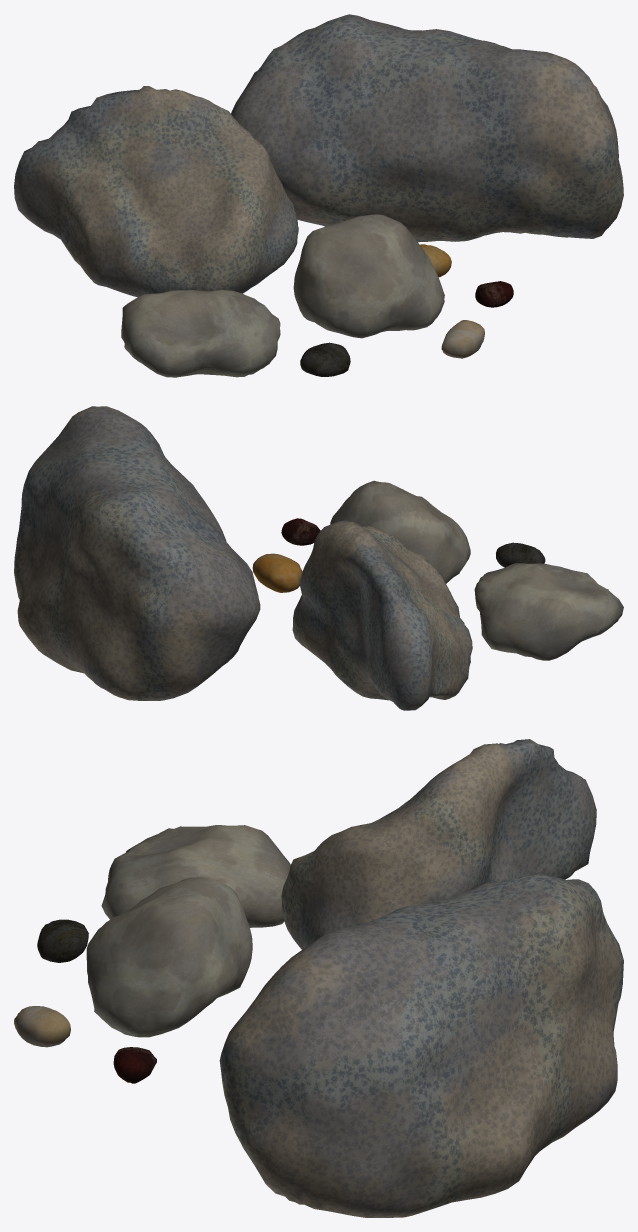
Rendered from river_rocks.glb.
3 views of the same model, one above another, from view 1: azimuth 30°, elevation 25°; view 2: azimuth 150°, elevation 25°; view 3: azimuth 270°, elevation 25° (orthographic). The views are drawn at different scales.
Visible parts, largest first — view 1: RiverRock_02, RiverRock_01, RiverRock_03, RiverRock_04, SmallRiverRock_04, SmallRiverRock_03, SmallRiverRock_02, SmallRiverRock_01; view 2: RiverRock_02, RiverRock_01, RiverRock_04, RiverRock_03, SmallRiverRock_01, SmallRiverRock_04, SmallRiverRock_02; view 3: RiverRock_02, RiverRock_01, RiverRock_03, RiverRock_04, SmallRiverRock_03, SmallRiverRock_04, SmallRiverRock_02.
Part boxes in pixels (x1,y1,x2,y2): RiverRock_02: (231, 14, 623, 242); RiverRock_01: (14, 86, 298, 297); RiverRock_03: (293, 214, 444, 338); RiverRock_04: (121, 290, 280, 377); SmallRiverRock_04: (300, 342, 350, 376); SmallRiverRock_03: (441, 320, 484, 358); SmallRiverRock_02: (475, 281, 513, 307); SmallRiverRock_01: (420, 244, 451, 277); RiverRock_02: (14, 406, 260, 700); RiverRock_01: (292, 520, 472, 710); RiverRock_04: (474, 563, 623, 660); RiverRock_03: (330, 480, 470, 583); SmallRiverRock_01: (252, 553, 302, 592); SmallRiverRock_04: (496, 542, 545, 567); SmallRiverRock_02: (281, 518, 320, 545); RiverRock_02: (219, 874, 623, 1217); RiverRock_01: (281, 739, 596, 949); RiverRock_03: (86, 877, 252, 1037); RiverRock_04: (101, 825, 290, 927); SmallRiverRock_03: (14, 1006, 70, 1047); SmallRiverRock_04: (37, 919, 88, 962); SmallRiverRock_02: (113, 1047, 156, 1083).
Size of the model in its own units: 3.24 by 1.22 by 2.54.
Materials: 5 (5 with a texture image).
